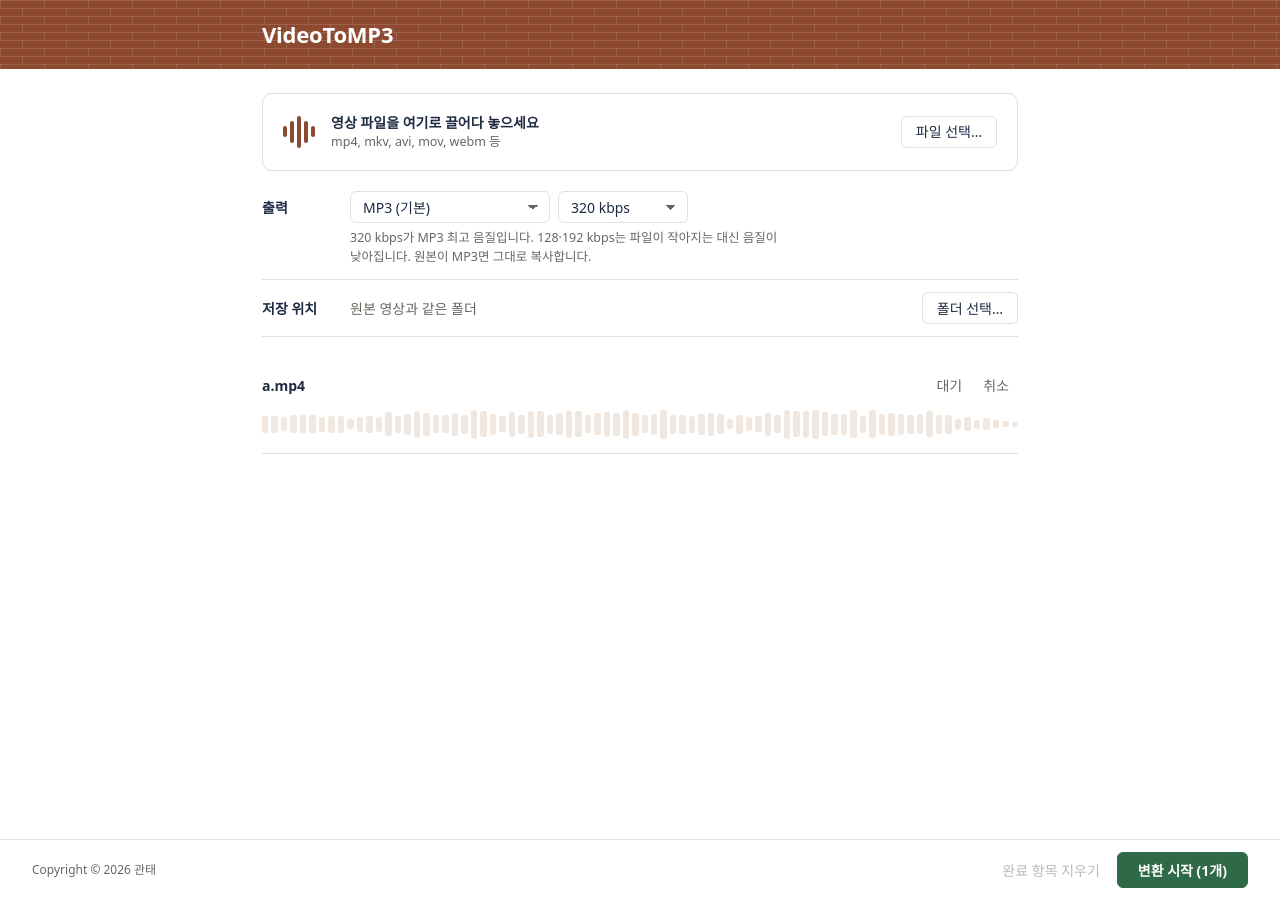
Scenario: 변환 › 진행 보고 {"percent":0,"speed":10}
Click the button "변환 시작 (1개)" at (1182, 870), box [1117,852,1248,888]
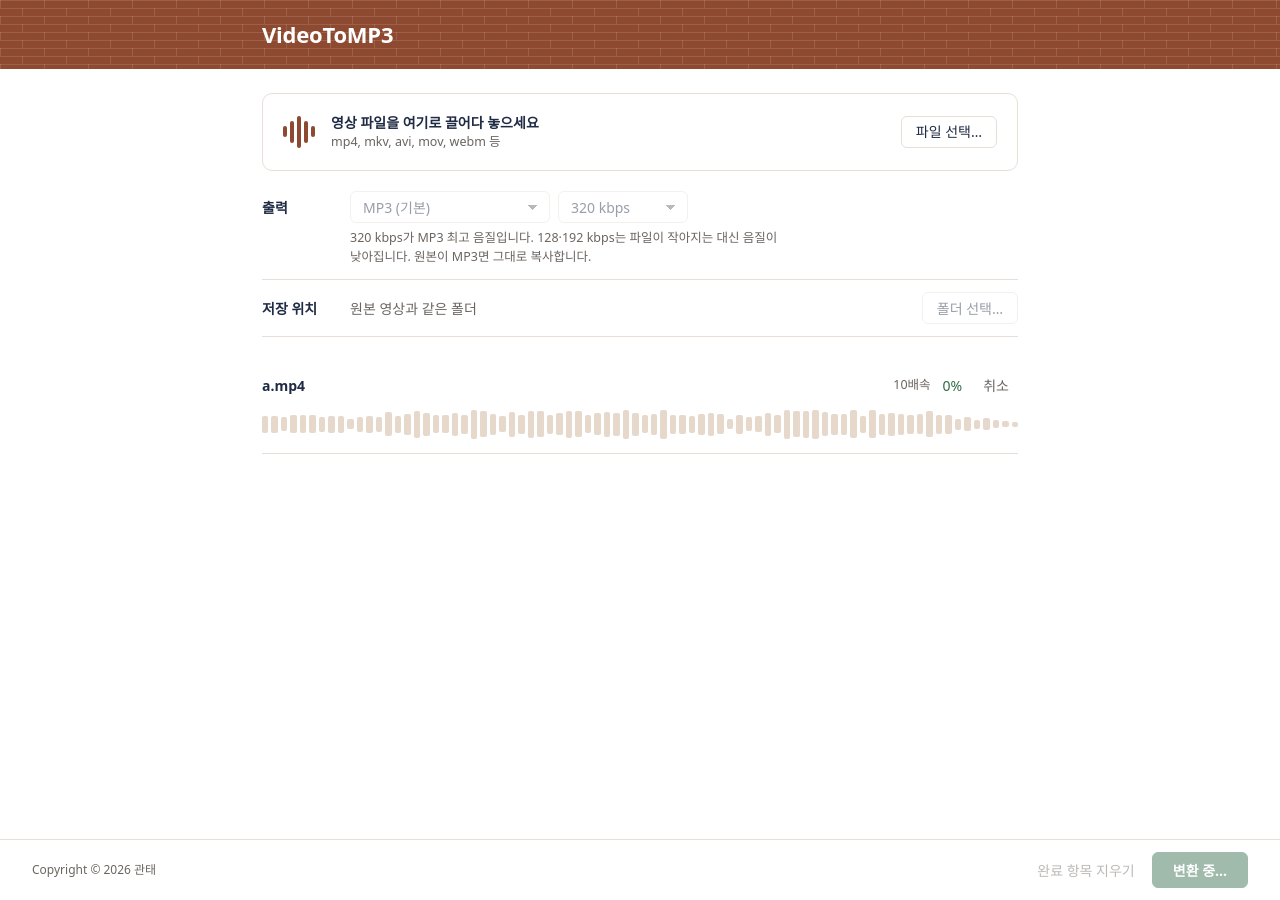
Check: the text with class "job-speed" reads "10배속", box [893,376,931,393]
